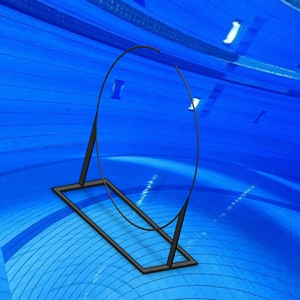circle: (51, 45, 200, 275)
